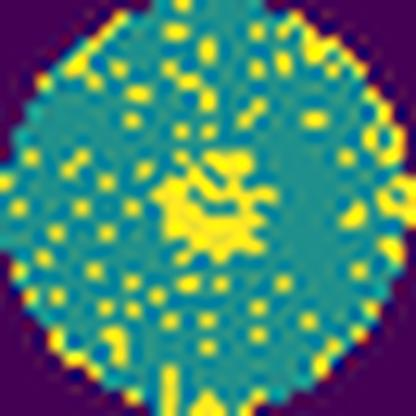Center: (150, 145, 284, 268)
